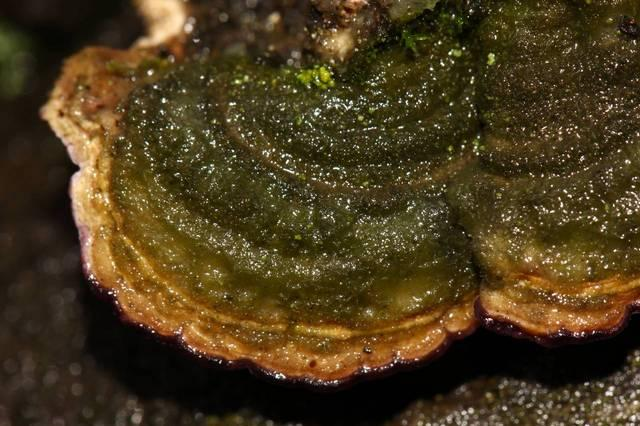Non-edible Mushroom: (39, 0, 638, 390)
